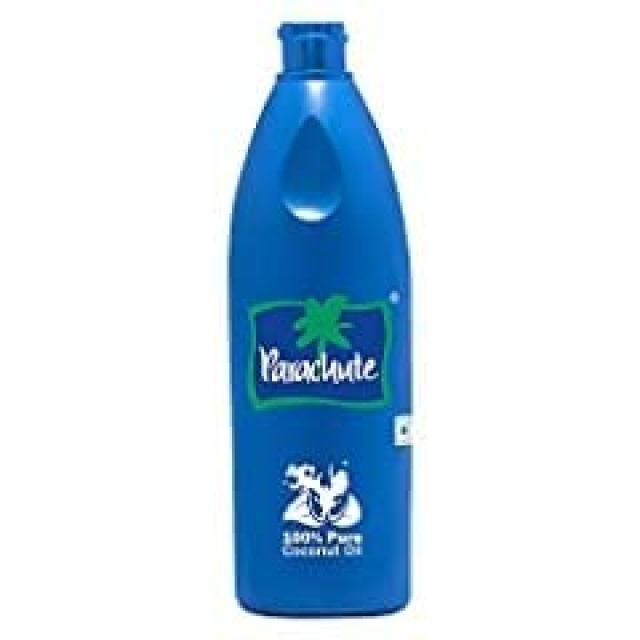parachute_oil: (214, 17, 461, 623)
